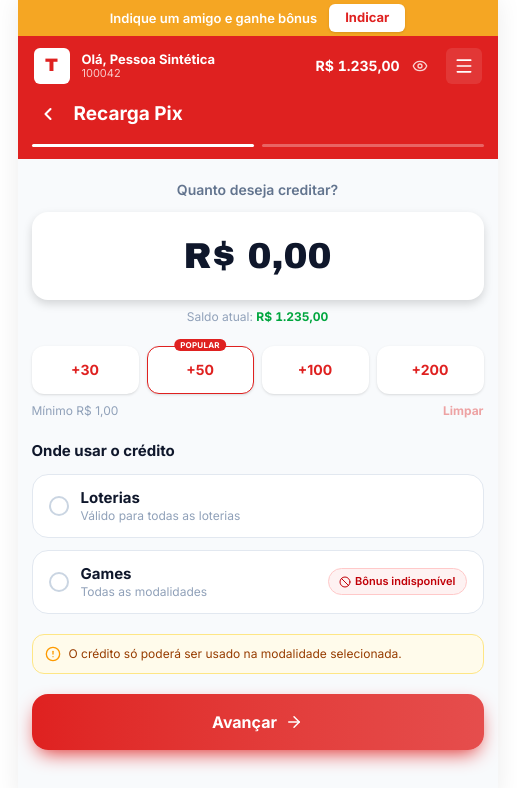
Test: RechargePage: gerar a cobrança › enquanto gera, o botão fica desabilitado (sem cobrança duplicada)
The width and height of the screenshot is (517, 788).
Click the button with aria-label "Adicionar R$ 50,00": (200,370) [146,346,254,394]
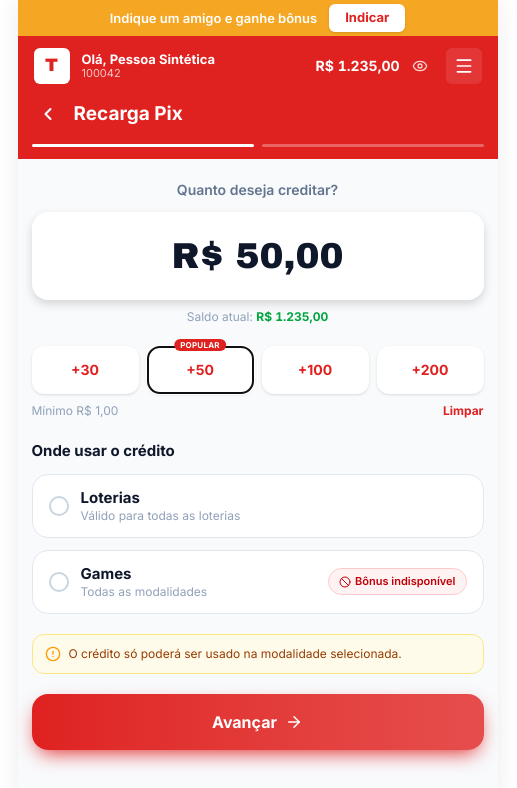
Click the radio button labelled "Loterias Válido para todas as loterias": (110,498) [32,474,484,538]
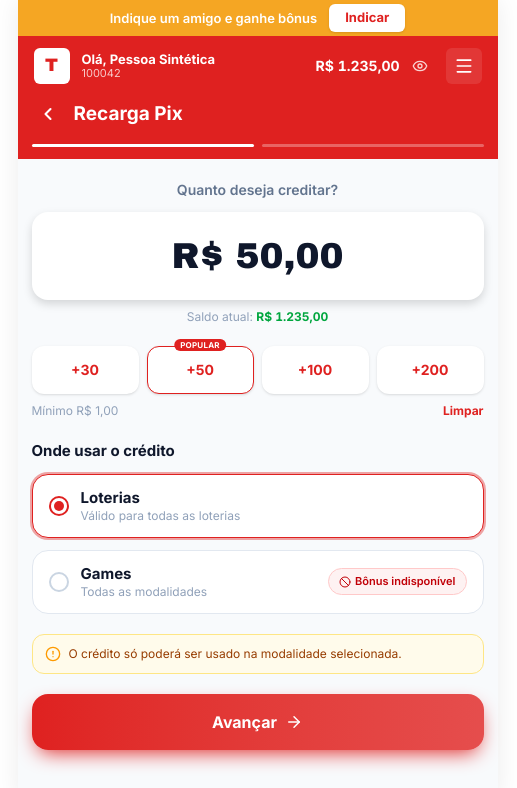
Click the button "Avançar": (258,722) [32,694,484,750]
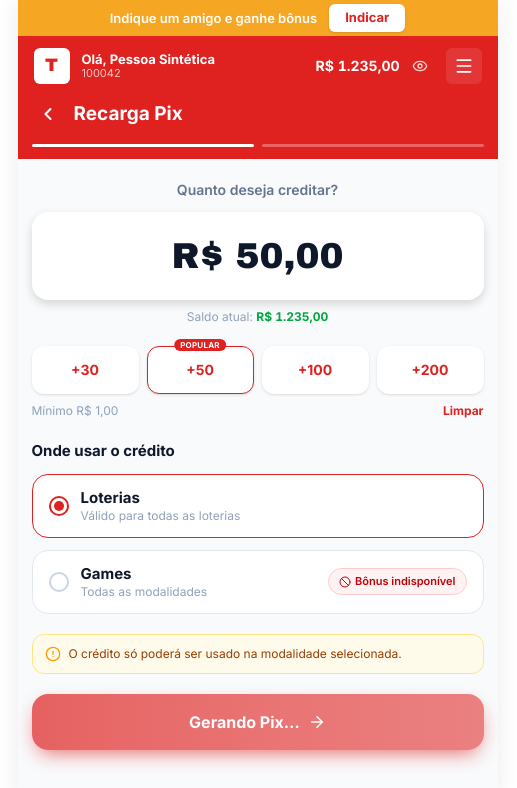
Expected: the button "Gerando Pix…" is disabled
Click the button "Gerando Pix…": (258,722) [32,694,484,750]
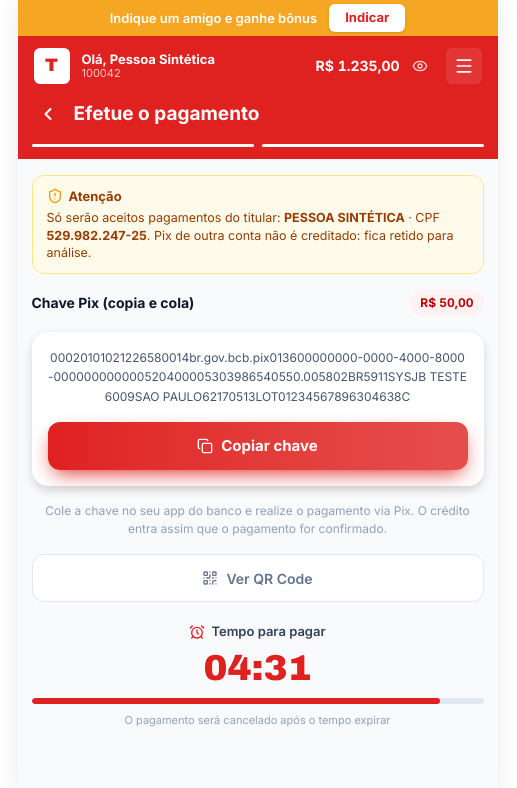
Expected: the heading "Efetue o pagamento" is shown, [74,102,259,125]
